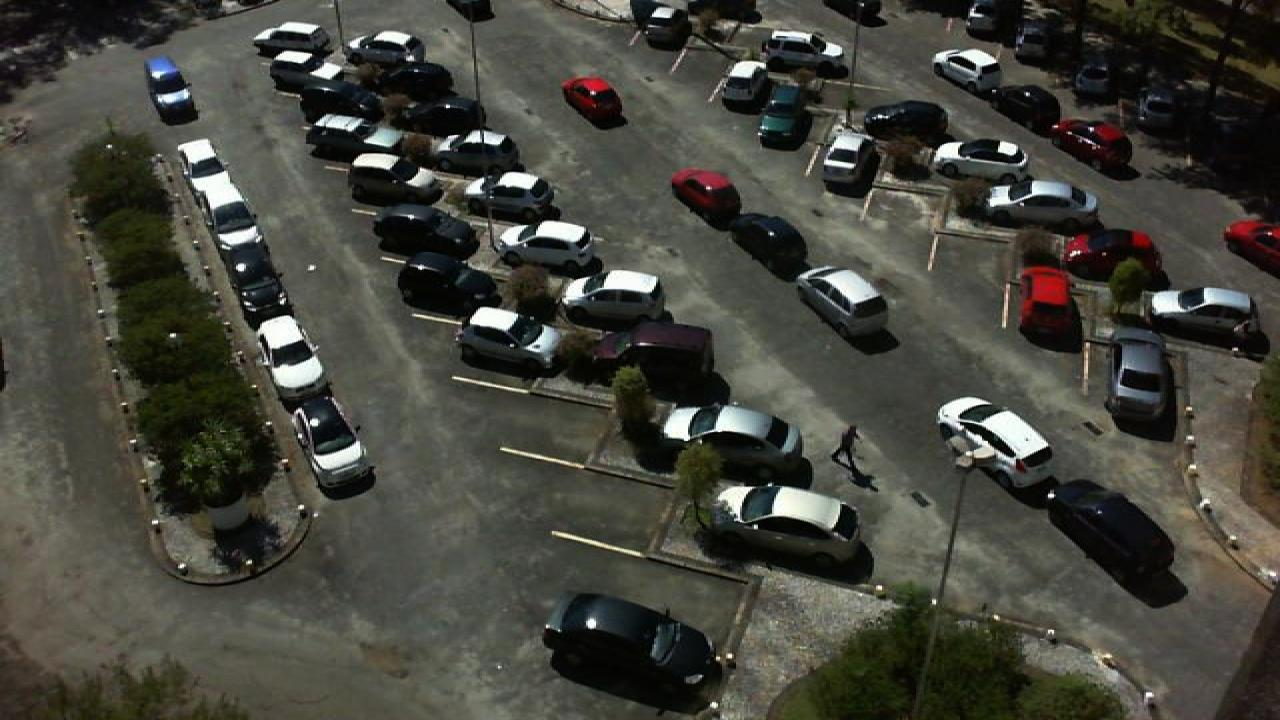Car: (544, 590, 722, 696), (702, 483, 862, 568), (660, 402, 806, 474), (592, 318, 722, 391), (288, 395, 376, 488), (454, 306, 564, 370), (1104, 325, 1176, 422), (554, 269, 668, 327), (394, 253, 502, 314), (1062, 226, 1168, 287), (1146, 287, 1262, 341), (370, 204, 478, 257), (988, 180, 1100, 231), (490, 220, 598, 272), (258, 314, 326, 392), (1016, 267, 1082, 343), (304, 111, 402, 161), (1050, 117, 1136, 173), (350, 152, 442, 204), (460, 172, 556, 219), (932, 137, 1032, 181), (426, 130, 520, 176), (228, 242, 288, 314), (174, 138, 238, 204), (266, 48, 352, 93), (864, 99, 952, 142), (992, 81, 1066, 131), (286, 82, 374, 124), (758, 28, 844, 69), (394, 97, 484, 136), (820, 134, 878, 192), (208, 191, 264, 251), (758, 84, 812, 146), (1132, 86, 1194, 140), (932, 48, 1004, 92), (1210, 119, 1272, 170), (686, 0, 766, 39), (378, 63, 460, 99), (630, 0, 694, 44), (1070, 50, 1122, 103), (252, 21, 334, 54), (348, 30, 426, 64), (720, 60, 770, 109), (1012, 17, 1066, 61), (964, 0, 1018, 39)
